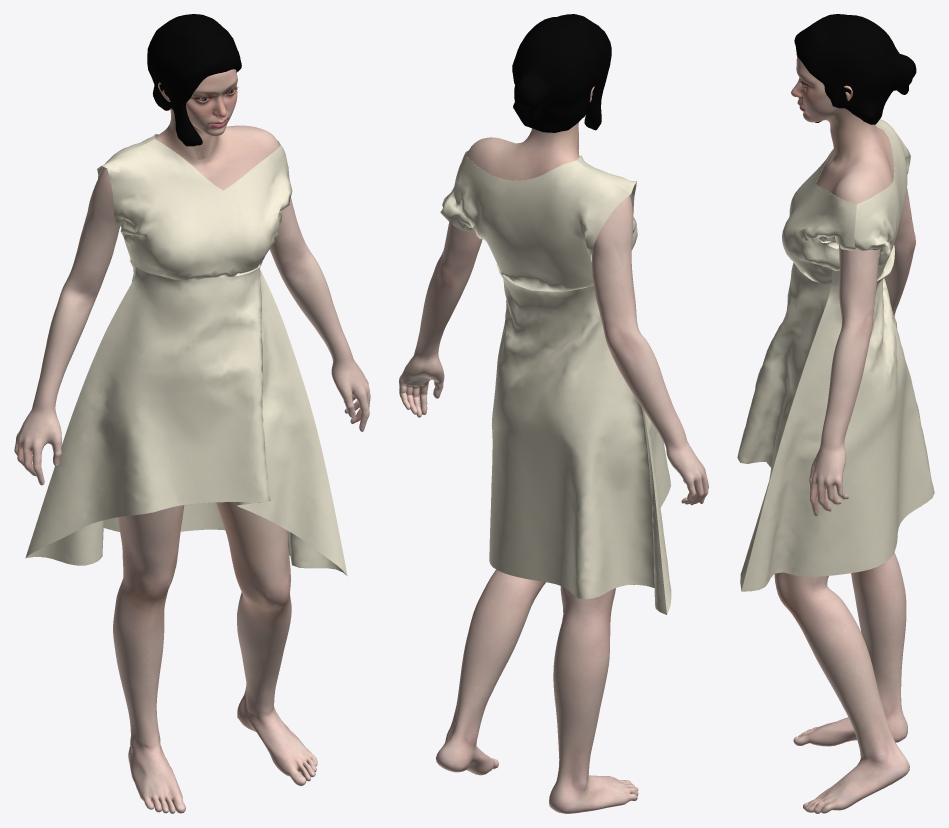
The model's file is random.obj.
The picture shows the model from 3 angles, left to right: view 1: azimuth 30°, elevation 25°; view 2: azimuth 150°, elevation 25°; view 3: azimuth 270°, elevation 25°; orthographic projection. The views are drawn at different scales.
Size of the model in its own units: 775 by 1773 by 423.
